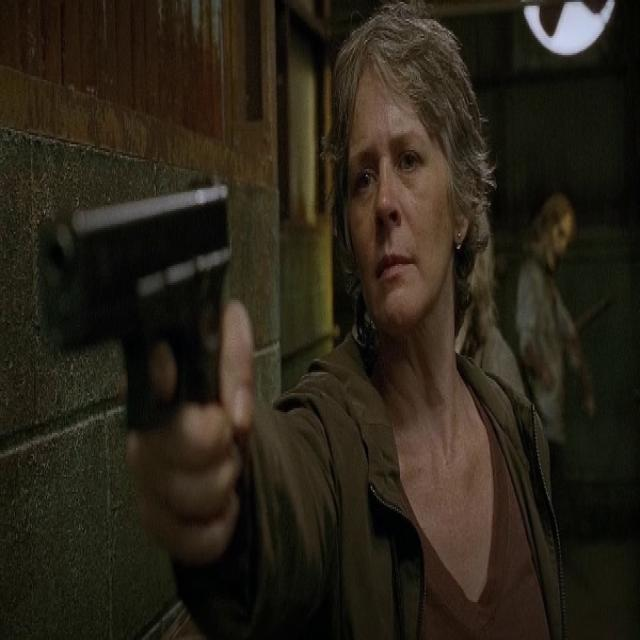weapons: (27, 160, 255, 514)
